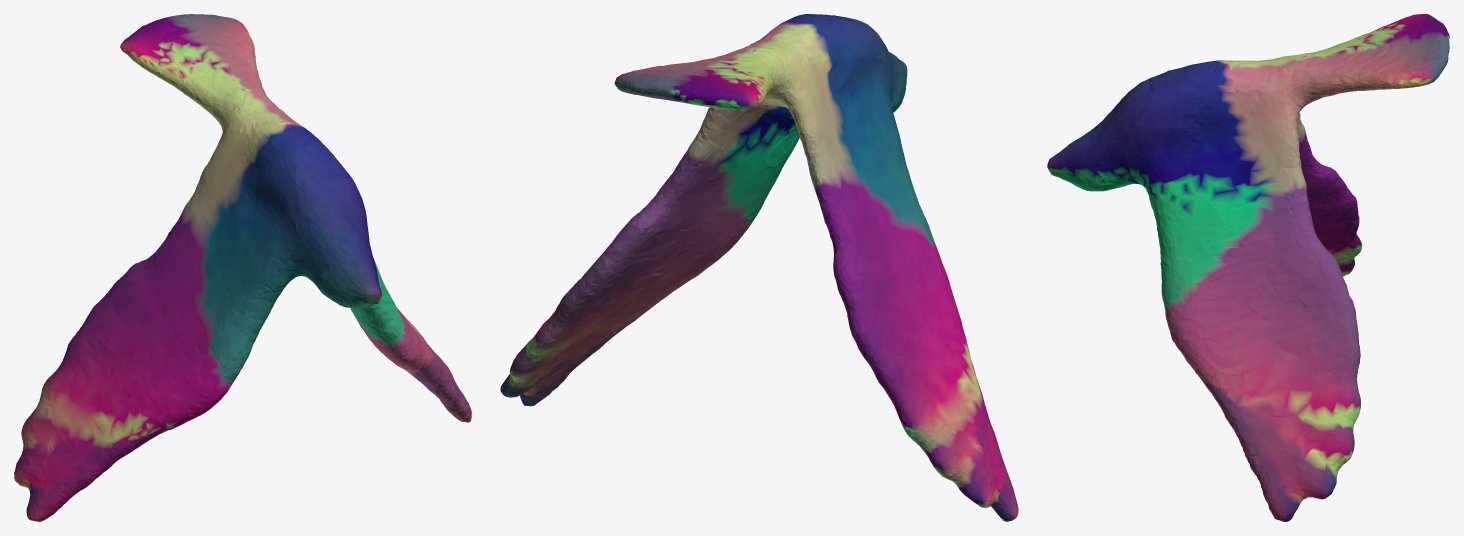
The model's file is bird1-5.off.obj.
3 views of the same model, side by side, from view 1: azimuth 30°, elevation 25°; view 2: azimuth 150°, elevation 25°; view 3: azimuth 270°, elevation 25° (orthographic). The views are drawn at different scales.
Size of the model in its own units: 1.33 by 1.15 by 1.08.
